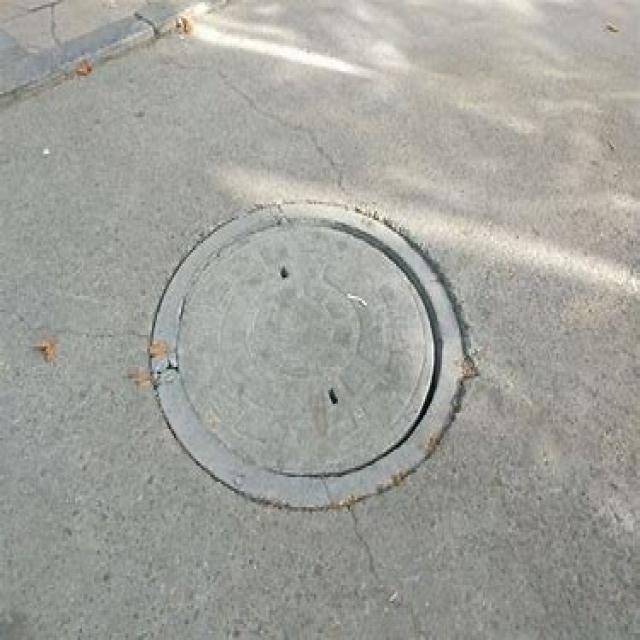manhole: (143, 204, 478, 514)
